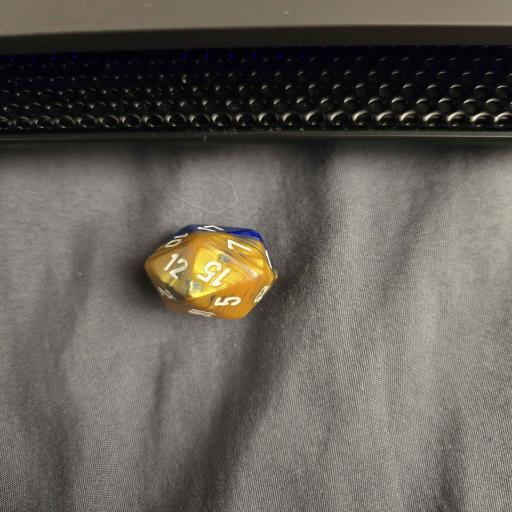twenty sided dice: (144, 224, 277, 319)
